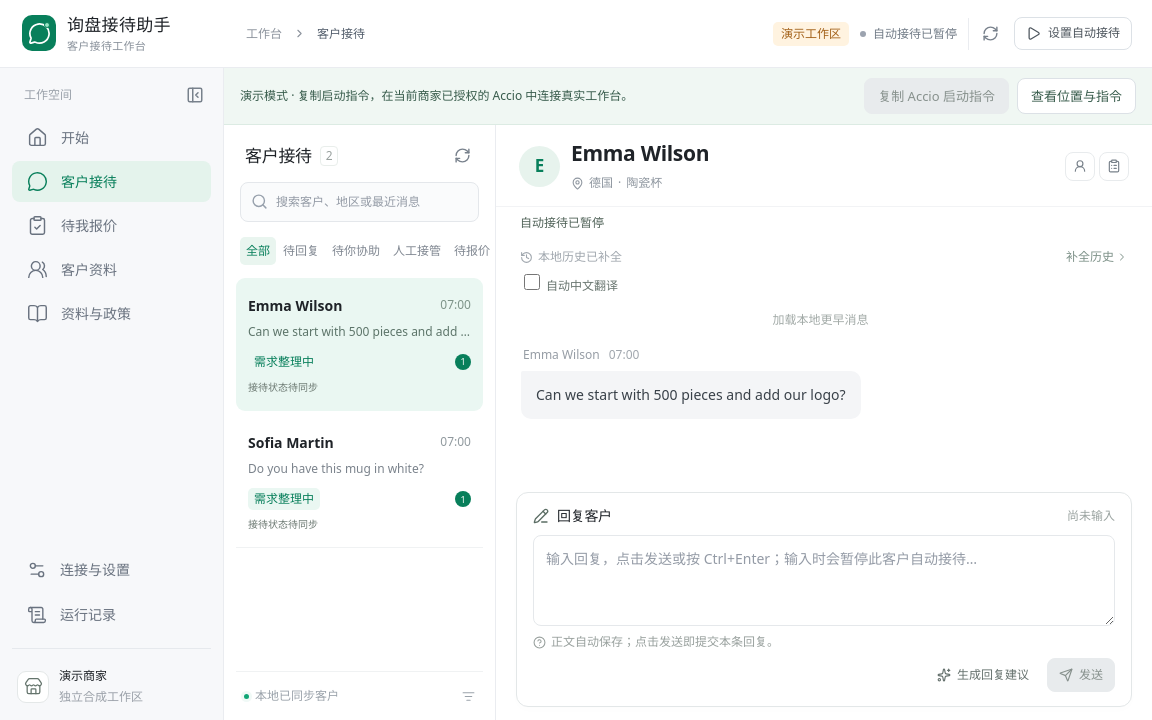
seller-side reply activity › isolates customers and cases and restores activity when returning to its customer
The image size is (1152, 720).
Expected: the text box named "回复正文" is shown, [533,535,1115,626]
Click the button "Sofia Martin" at (360, 482), box [236,415,483,548]
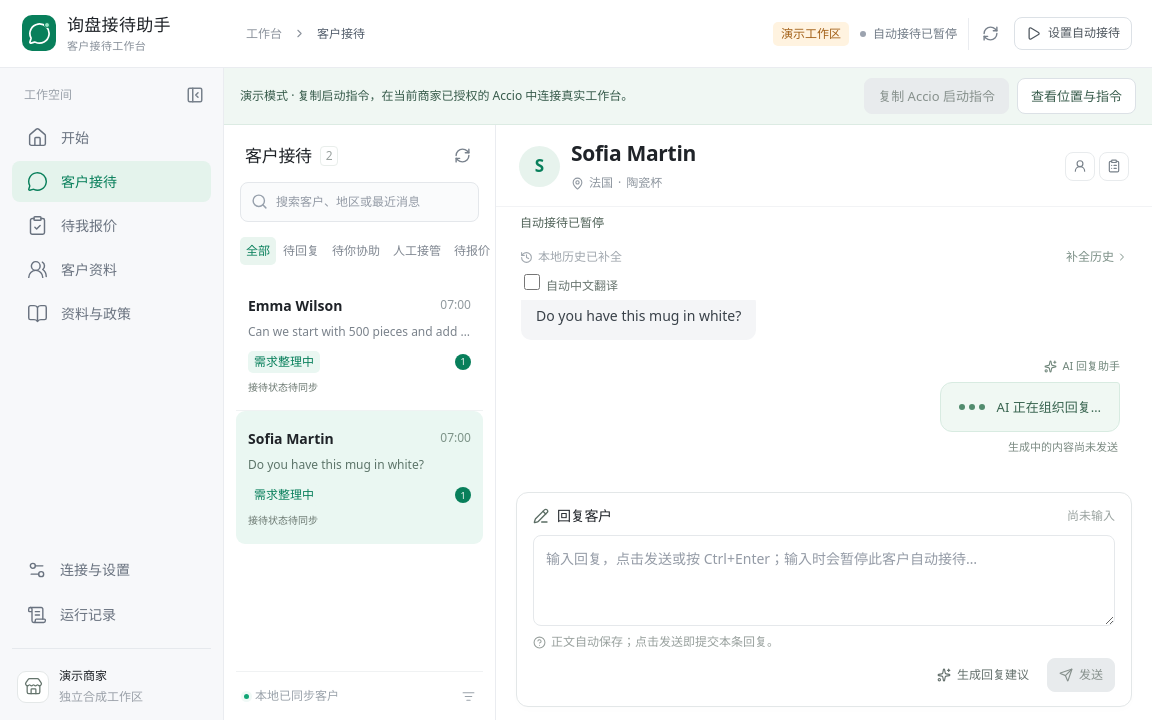
Now the element named "Sofia Martin 的客户接待" is shown, box [496,125,1151,719]
Now the message named "AI 回复生成状态" is shown, box [940,358,1120,454]
Click the button "Emma Wilson" at (360, 344), box [236,278,483,411]
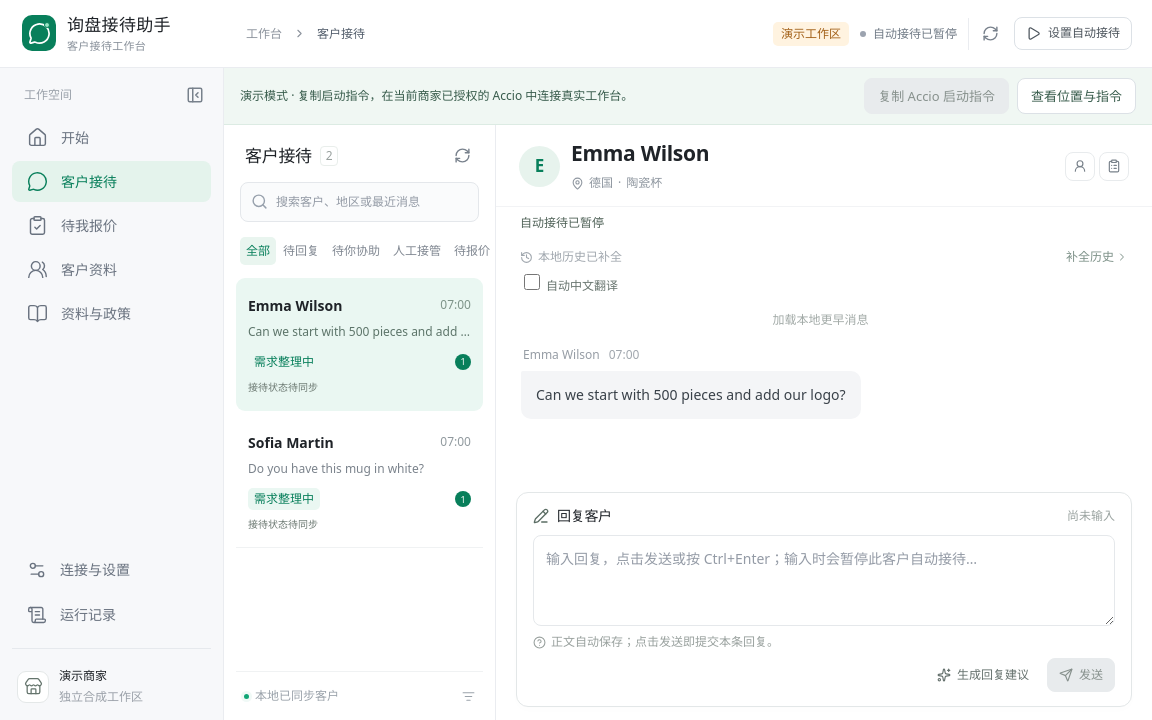
Now the element named "Emma Wilson 的客户接待" is shown, box [496,125,1151,719]
